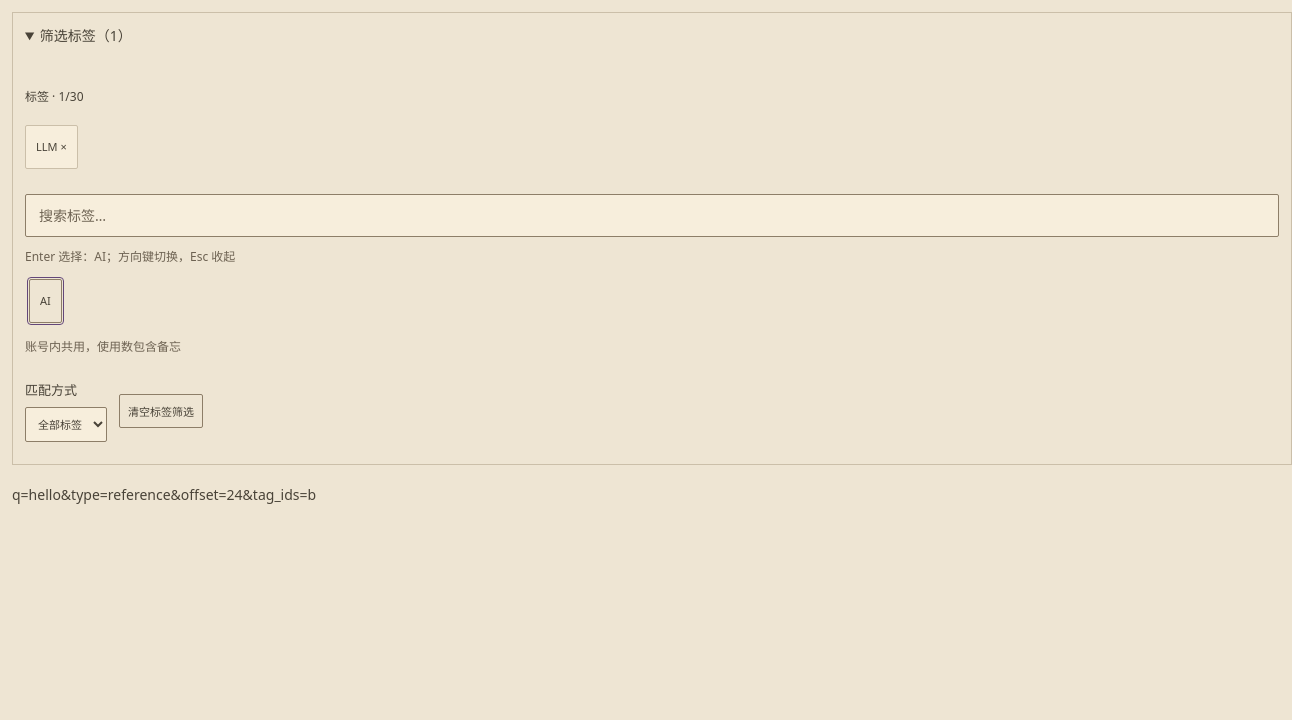
Test case: filter URL keeps unrelated state, sorts IDs and resets pagination
This screenshot has width=1292, height=720.
Click the button "AI". click: (45, 301)
box: [29,279,62,323]
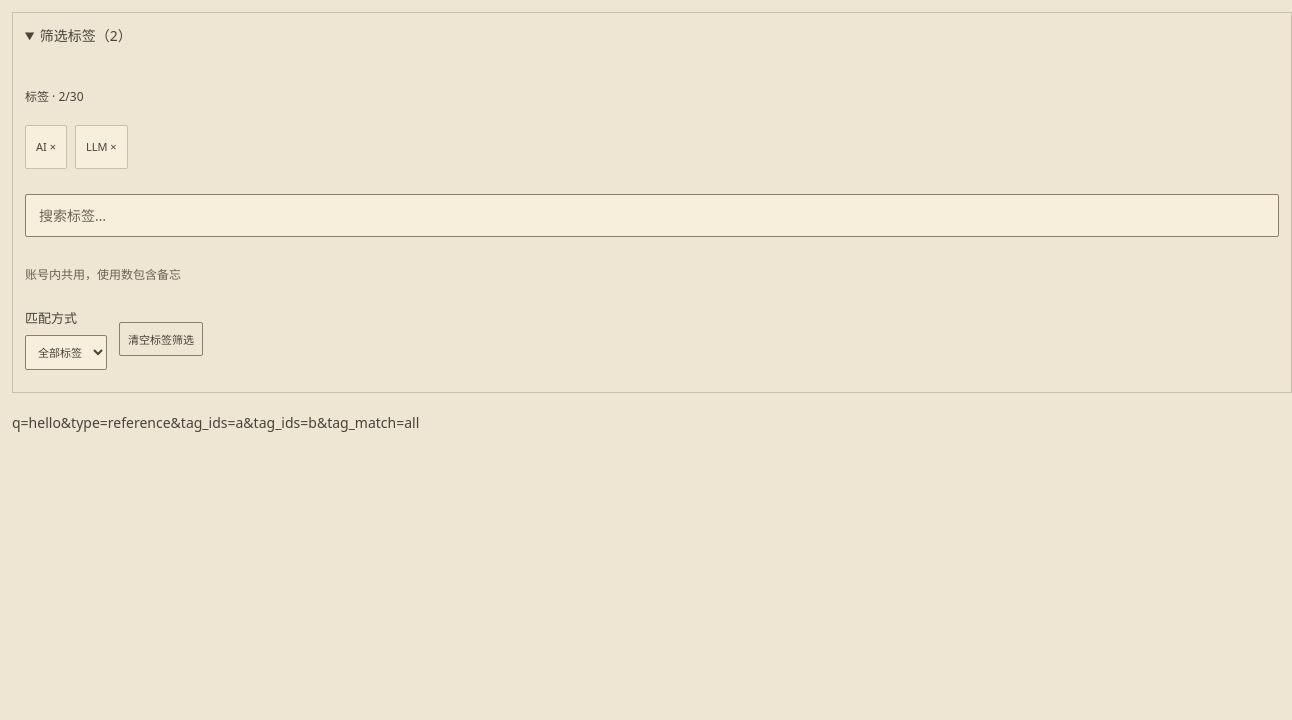
Expected: the text "q=hello&type=reference&tag_ids=a&tag_ids=b&tag_match=all" is shown, [12,413,419,432]
Select "任一标签" in the dropdown named "标签匹配方式". click: (66, 352)
box: [25,335,107,370]
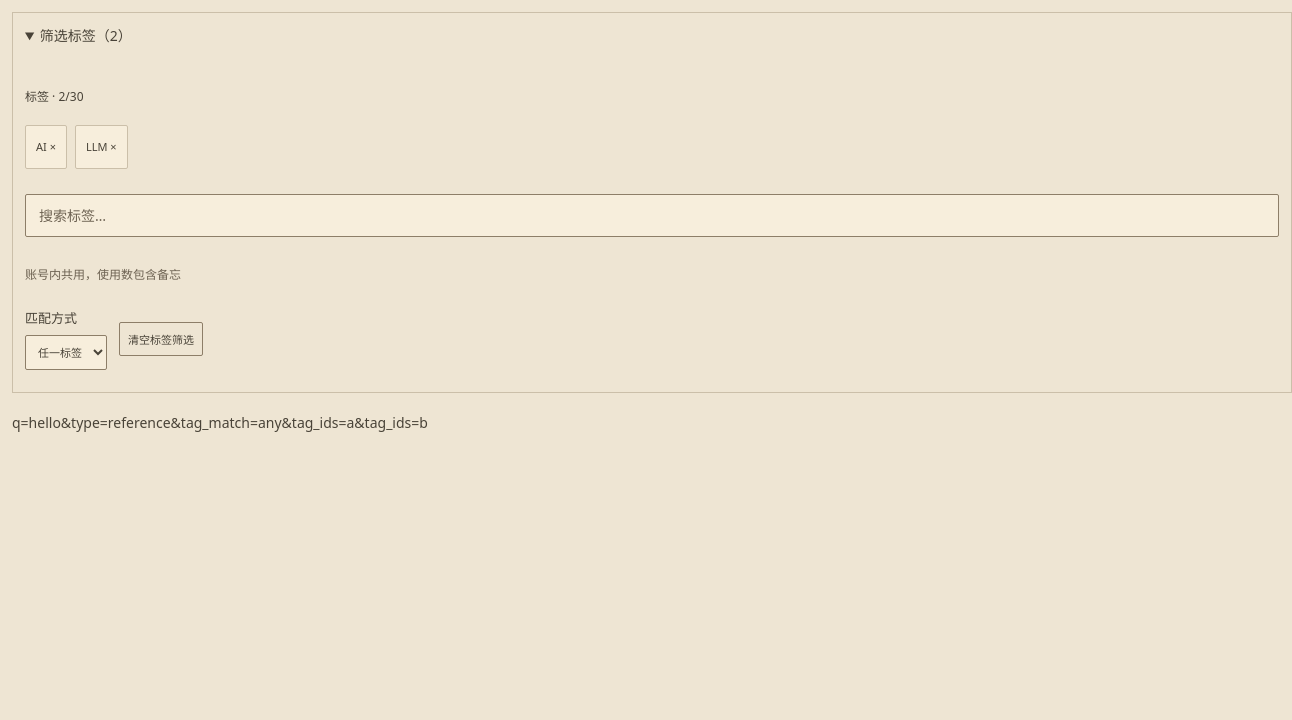
Expected: the text "q=hello&type=reference&tag_match=any&tag_ids=a&tag_ids=b" is shown, [12,413,428,432]
Click the button "清空标签筛选". click: (161, 339)
box: [119,322,203,356]
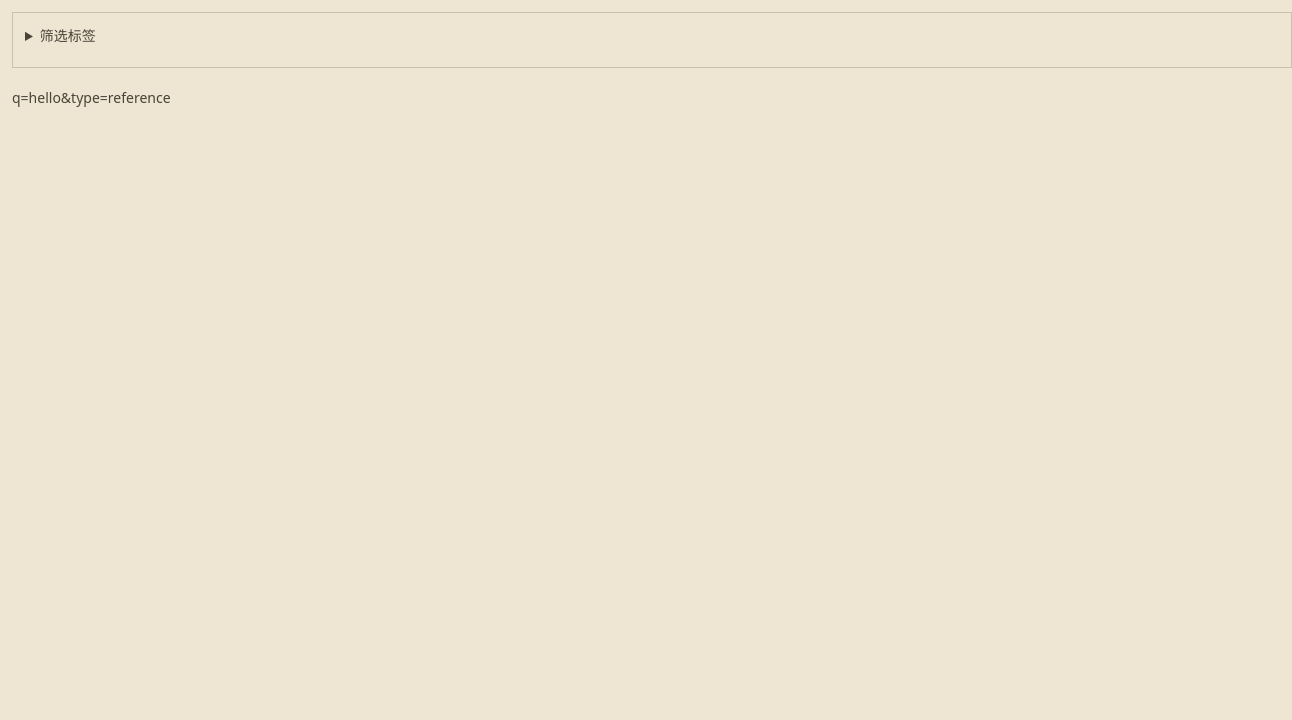
Expected: the text "q=hello&type=reference" is shown, [12,88,171,107]
